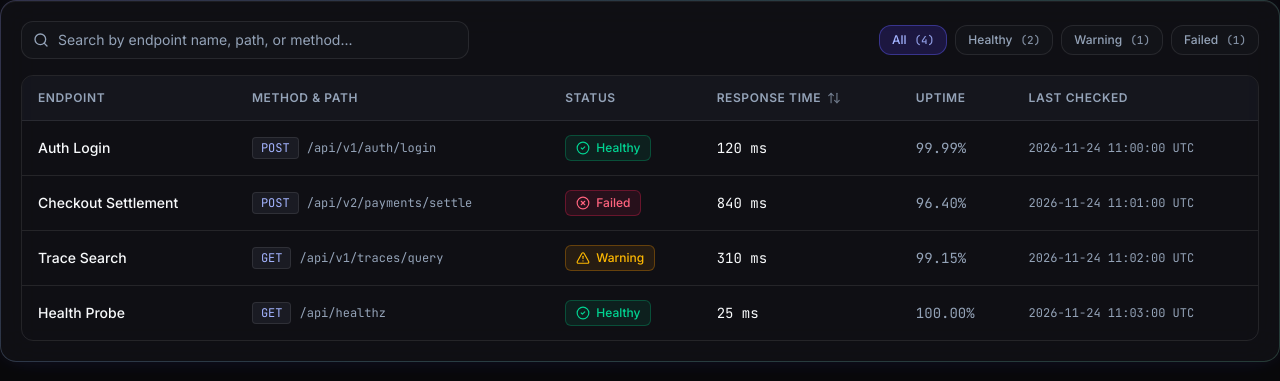
Scenario: EndpointTable › filters by status buttons with aria-pressed state and live counts
Click the button "Failed (1)" at (1215, 40), box [1171, 25, 1259, 55]
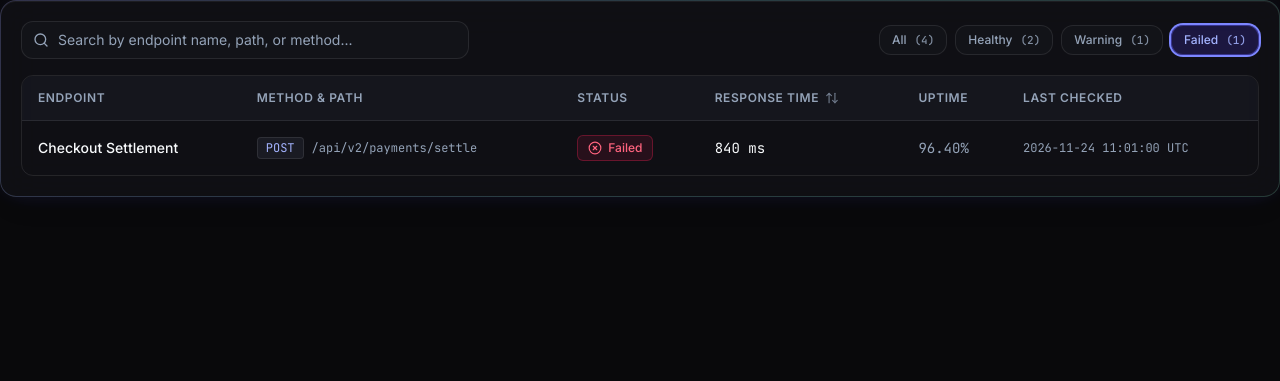
Expected: the text "Checkout Settlement" is shown, [22, 120, 241, 175]
Result: the text "Auth Login" is gone
Click the button "Healthy (2)" at (1004, 40), box [955, 25, 1053, 55]
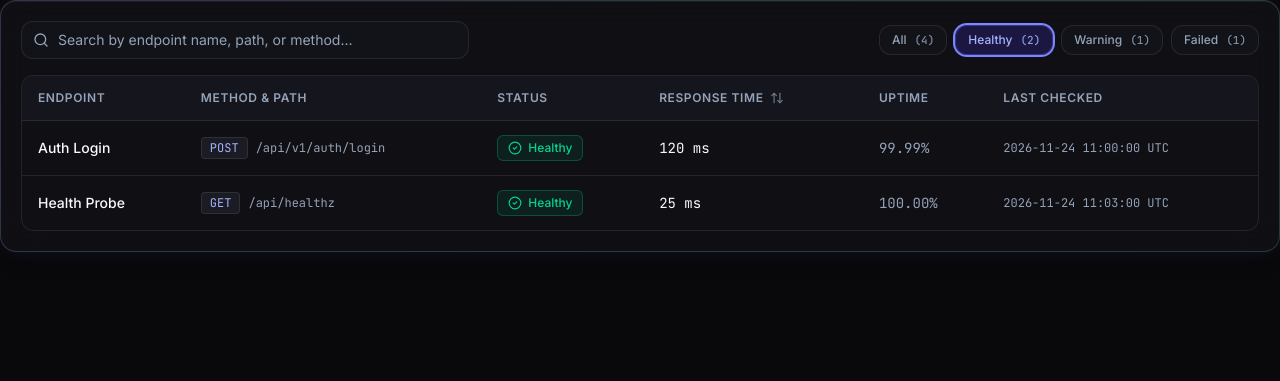
Result: the text "Auth Login" is shown at [22, 120, 185, 176]
Result: the text "Health Probe" is shown at [22, 176, 185, 230]
Result: the text "Checkout Settlement" is gone
